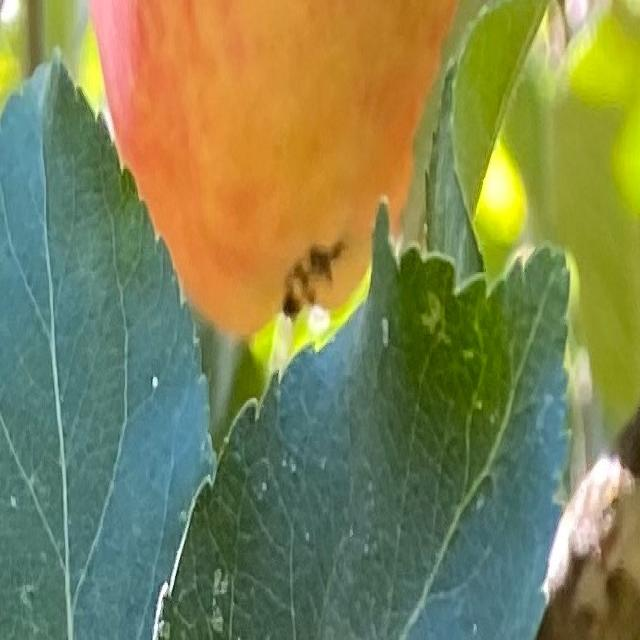100-_ripeness: (94, 0, 458, 343)
